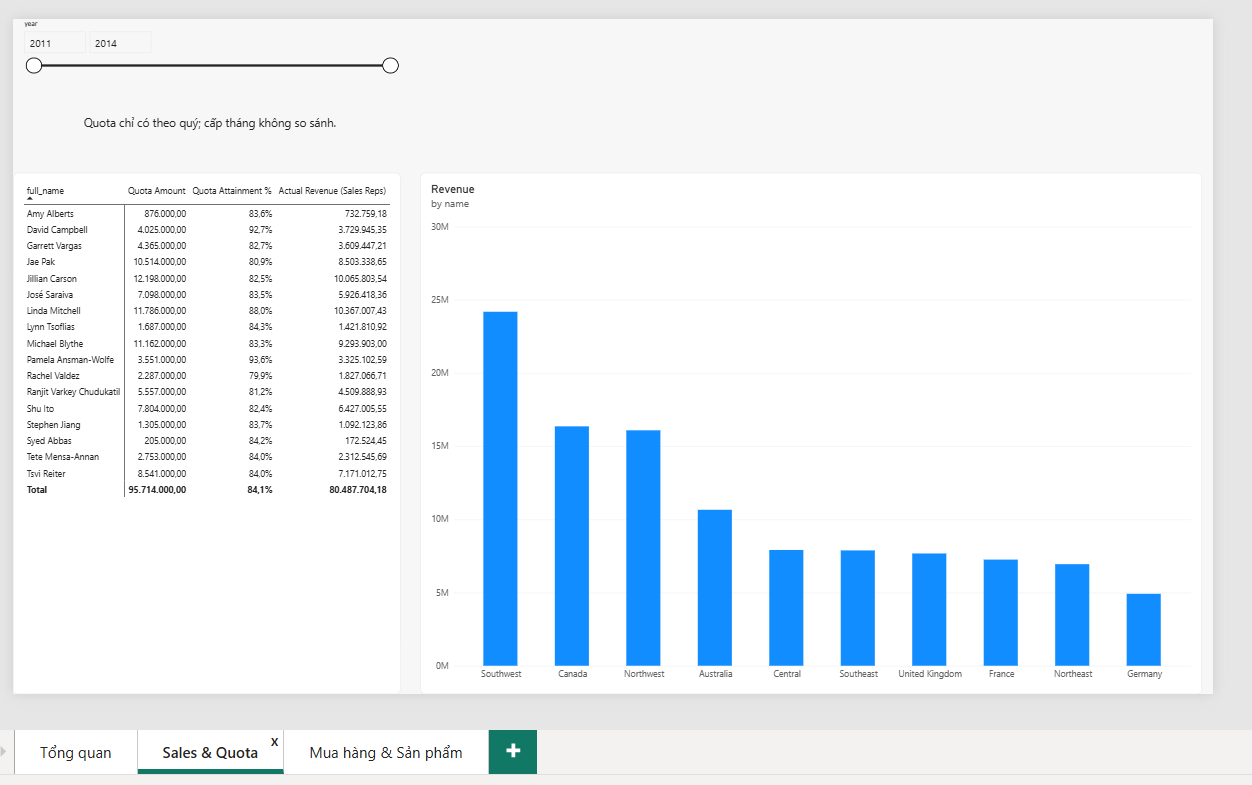

The dashboard page shown, as its layout file describes it:
{"tool":"powerbi","page":{"name":"Sales & Quota","canvas":[1920,1080],"ordinal":1},"visuals":[{"type":"slicer","fields":{"Values":["dim_date.year"]},"box":[10,0,610,92],"z":0},{"type":"pivotTable","fields":{"Rows":["dim_salesperson.full_name"],"Values":["_Measures.Quota Amount","_Measures.Quota Attainment %","_Measures.Actual Revenue (Sales Reps)"]},"box":[0,246,620,834],"z":1000},{"type":"columnChart","fields":{"Category":["dim_territory.name"],"Y":["_Measures.Revenue"]},"box":[652,246,1250,834],"z":2000},{"type":"textbox","box":[10,870,280,210],"z":2001},{"type":"textbox","box":[10,152,610,30],"z":2002}]}

Visuals, with their boxes on the page's 1920x1080 design canvas (x1, y1, x2, y2). These are canvas units, not pixel positions in the 1252x785 screenshot, which may show the page scaled, cropped or inside an application window:
slicer - dim_date.year: bbox=(10, 0, 620, 92)
pivotTable - dim_salesperson.full_name x _Measures.Quota Amount: bbox=(0, 246, 620, 1080)
columnChart - dim_territory.name x _Measures.Revenue: bbox=(652, 246, 1902, 1080)
textbox: bbox=(10, 870, 290, 1080)
textbox: bbox=(10, 152, 620, 182)
